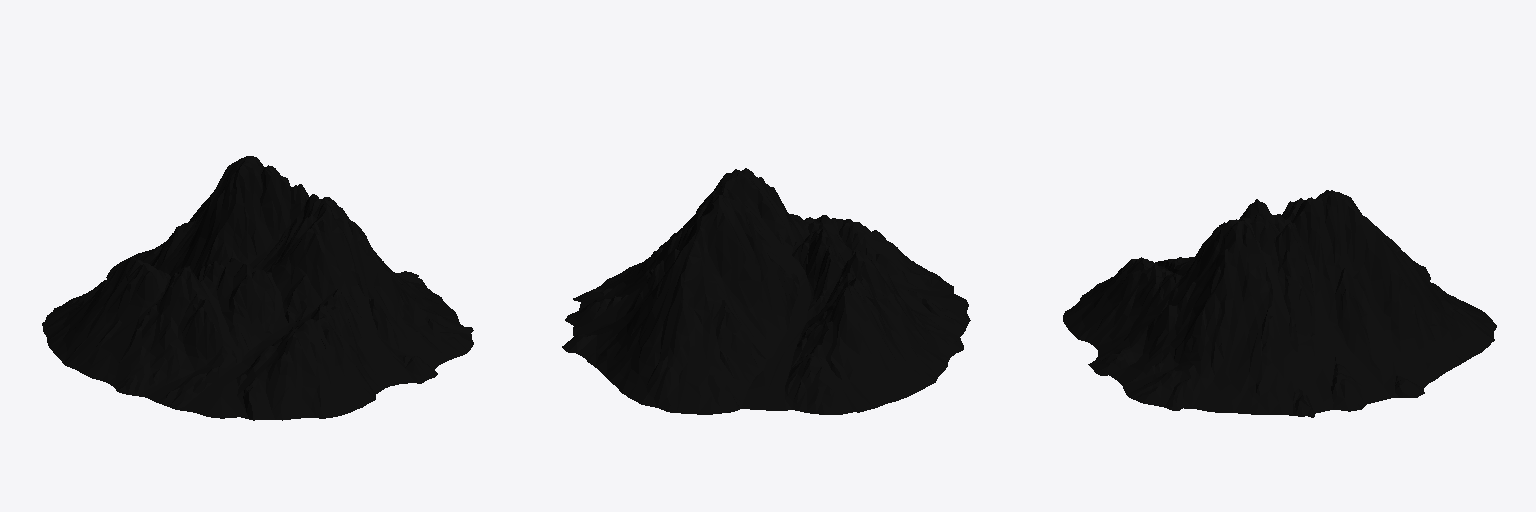
File: mountain.obj
The picture shows the model from 3 angles: view 1: azimuth 30°, elevation 25°; view 2: azimuth 150°, elevation 25°; view 3: azimuth 270°, elevation 25°; orthographic projection.
Visible parts, largest first — view 1: Mountain; view 2: Mountain; view 3: Mountain.
Part boxes in pixels (bbox=[...]): Mountain: bbox=[42, 156, 473, 420]; Mountain: bbox=[562, 168, 970, 414]; Mountain: bbox=[1063, 190, 1496, 417].
Bounding box in the file's own units: 5.73 × 2.29 × 6.03.